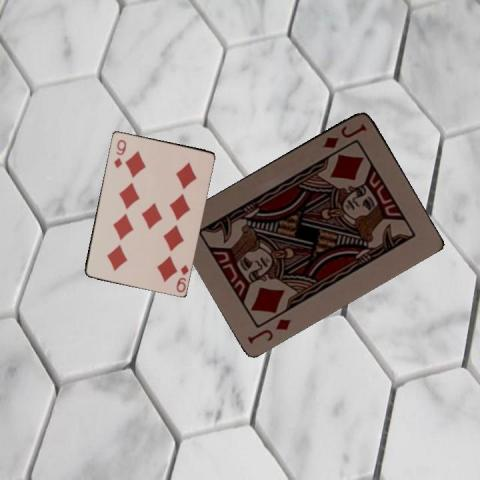9d: (111, 136, 127, 169), (174, 262, 190, 294)
Jd: (244, 315, 292, 345), (320, 120, 368, 149)
